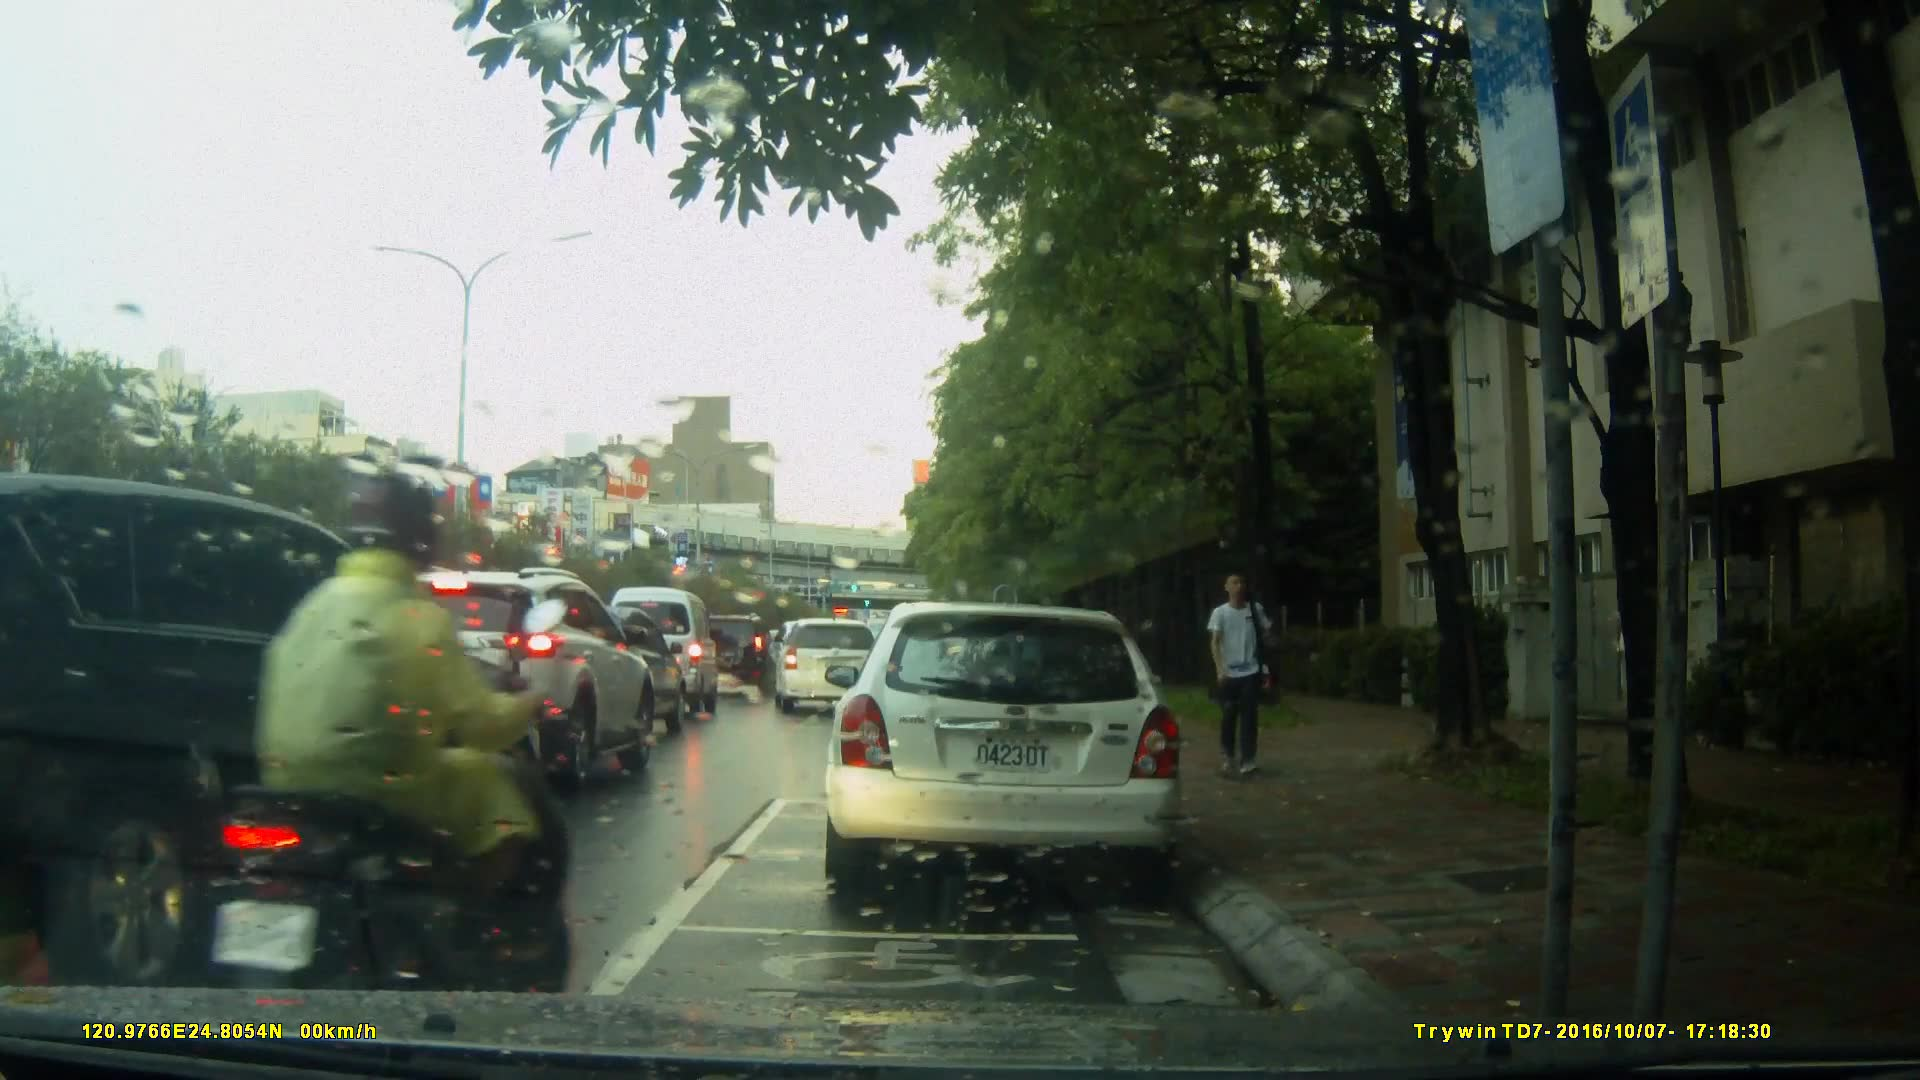pedestrian: (1200, 565, 1282, 791)
rider: (203, 472, 564, 1041)
vehicle: (1, 471, 536, 987), (820, 602, 1188, 898), (346, 563, 660, 791), (537, 602, 695, 735), (600, 585, 724, 721), (772, 617, 887, 714), (682, 611, 775, 699)
